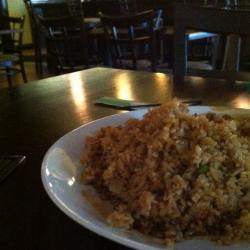rice: (84, 103, 250, 249)
